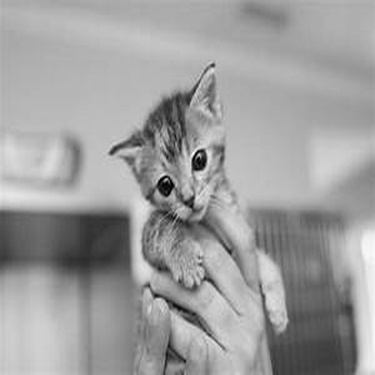cat: (103, 52, 289, 338)
